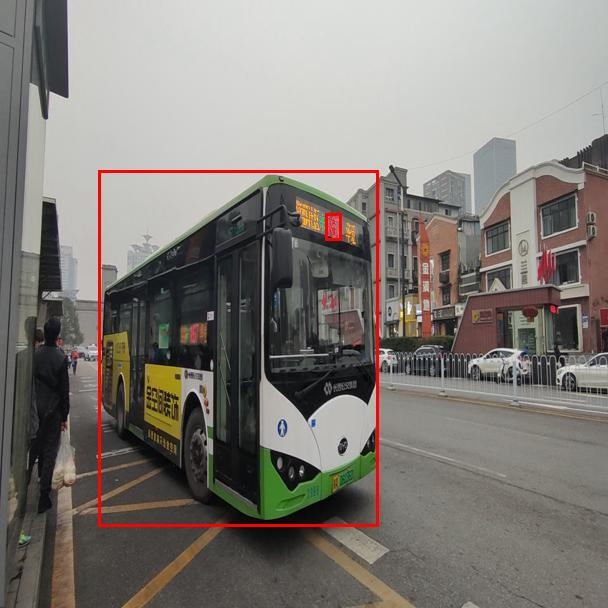bus: (98, 170, 378, 526)
screen: (325, 213, 341, 240)
